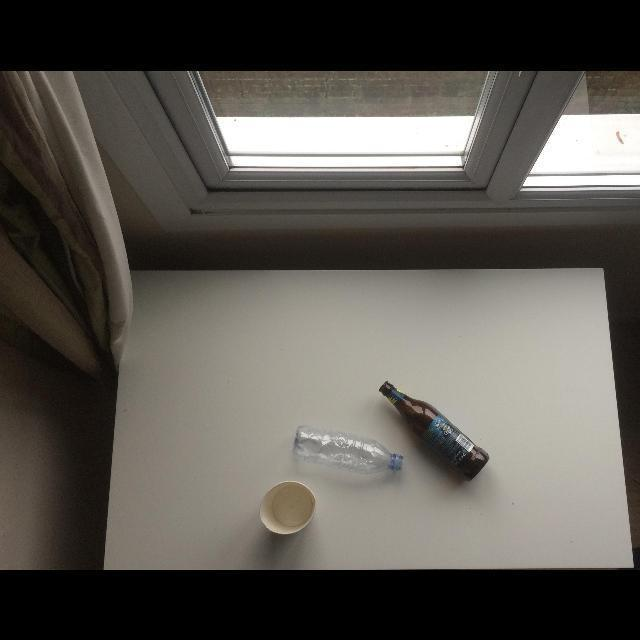Glass: (378, 380, 489, 480)
Paper: (260, 480, 316, 534)
Plastic: (292, 424, 403, 474)
